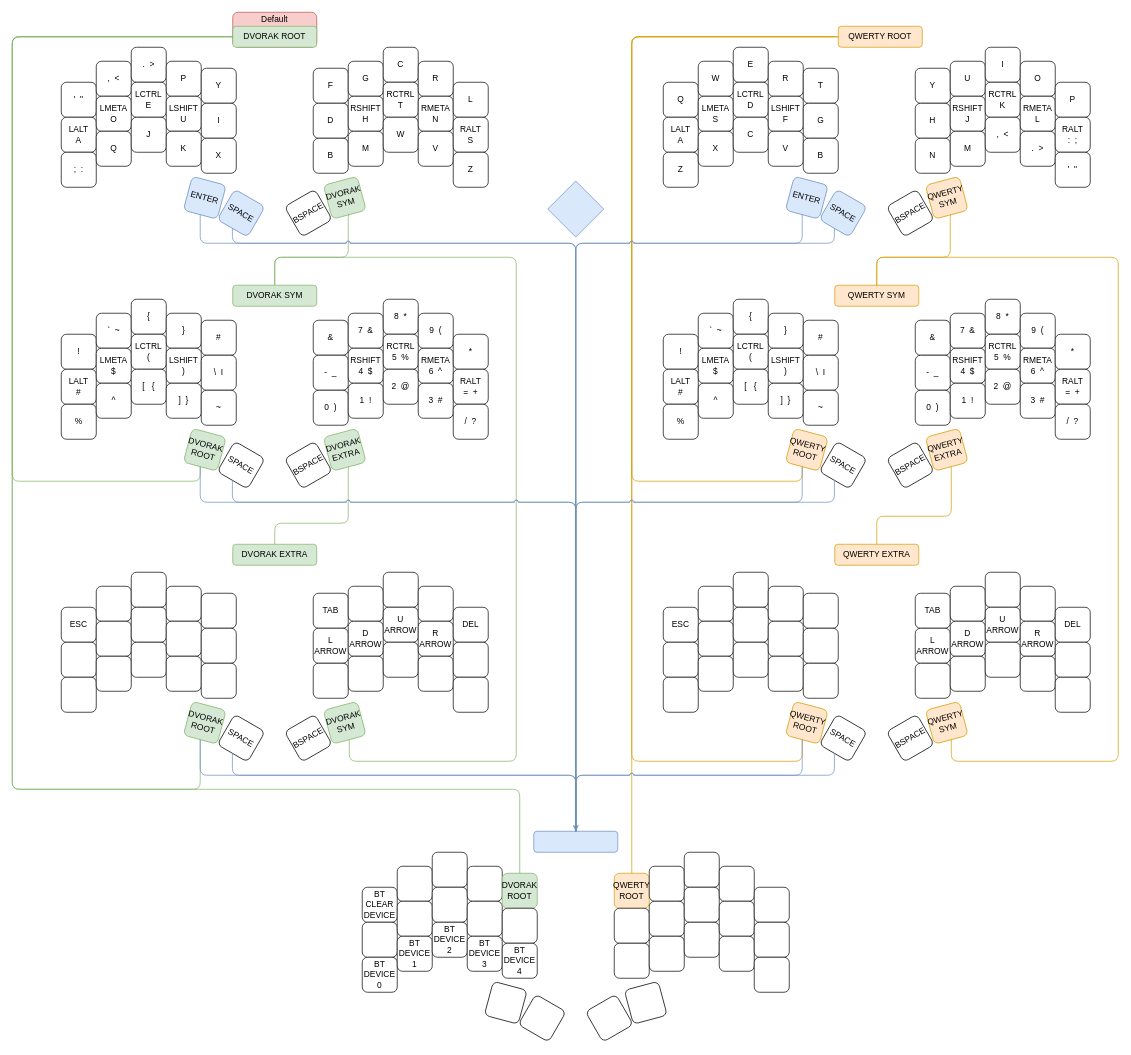
The diagram is 1131 pixels wide and 1055 high, and some of its shapes have lost their labels. Here are the shapes that lost their labels. From the top down, the centre of each, then its label:
the point at 575,208: Press Together
the point at 575,841: MGMT
